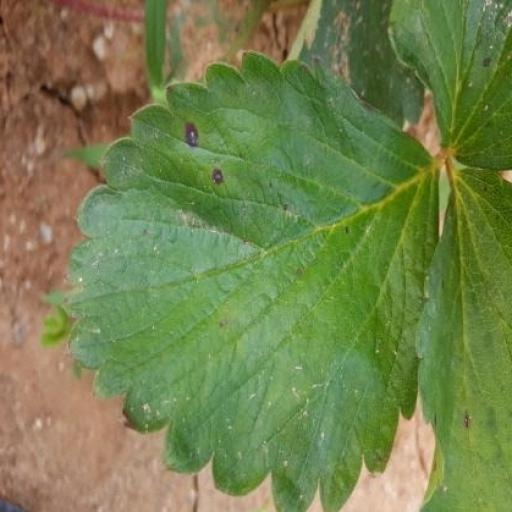Leaf Spot: (71, 50, 451, 511), (0, 160, 99, 511)
